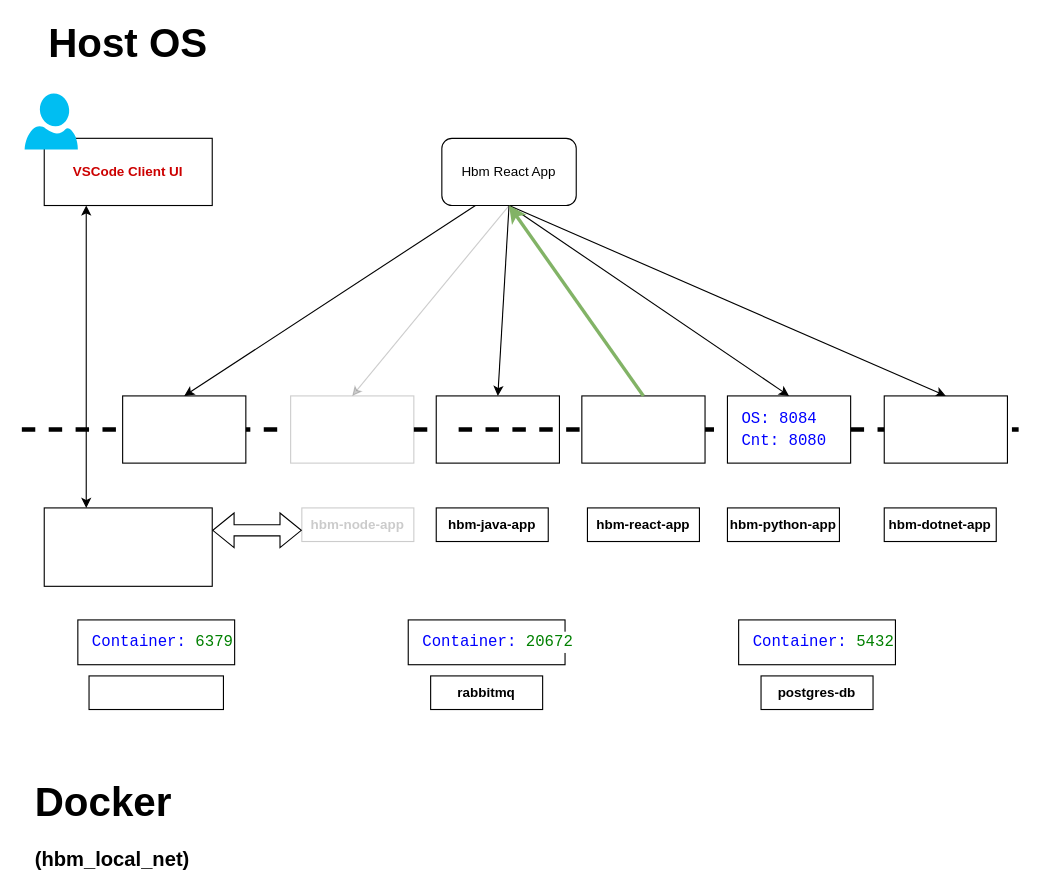
This 1040x895 diagram has some shape labels left out. The centre of each missing label's shape, as x and y in pixels:
OS: 8081 Cnt: 3000: (352,429)
OS: 8082 Cnt: 8080: (945,429)
OS: 8083 Cnt: 8080: (497,429)
OS: 8085 Cnt: 80: (643,429)
OS: 9081 Cnt: 3000: (184,429)
redis: (155,692)
VSCode Server DevContainer dev-hbm-node-app: (127,546)
